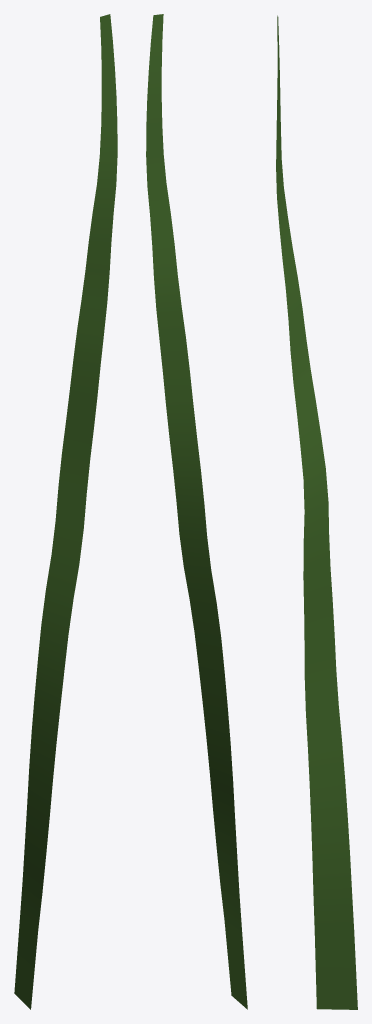
File: plant_swamp_kelp_giant_B_solo_A.fbx
3 views of the same model, side by side, from view 1: azimuth 30°, elevation 25°; view 2: azimuth 210°, elevation 25°; view 3: azimuth 270°, elevation 25° (orthographic). The views are drawn at different scales.
Visible parts, largest first — view 1: plant_swamp_kelp_giant_B_solo_A; view 2: plant_swamp_kelp_giant_B_solo_A; view 3: plant_swamp_kelp_giant_B_solo_A.
Boxes of the visible parts, x1,y1,x2,y2 form: plant_swamp_kelp_giant_B_solo_A: [14, 14, 117, 1009]; plant_swamp_kelp_giant_B_solo_A: [146, 14, 247, 1009]; plant_swamp_kelp_giant_B_solo_A: [276, 15, 357, 1009].
Size of the model in its own units: 41.36 by 589 by 42.81.
